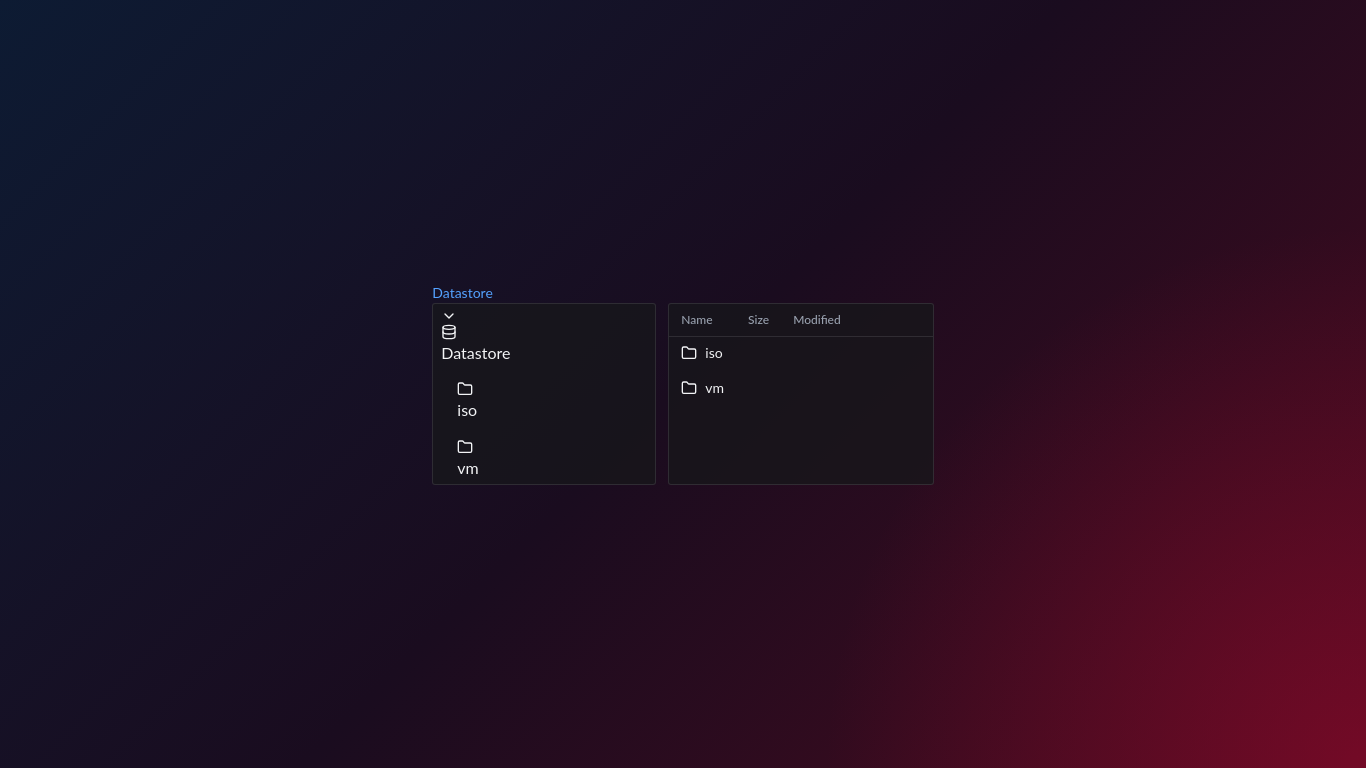
Test: DatastoreBrowser › navigates folders and breadcrumb
Press Enter in the text "iso", box [669,336,933,372]
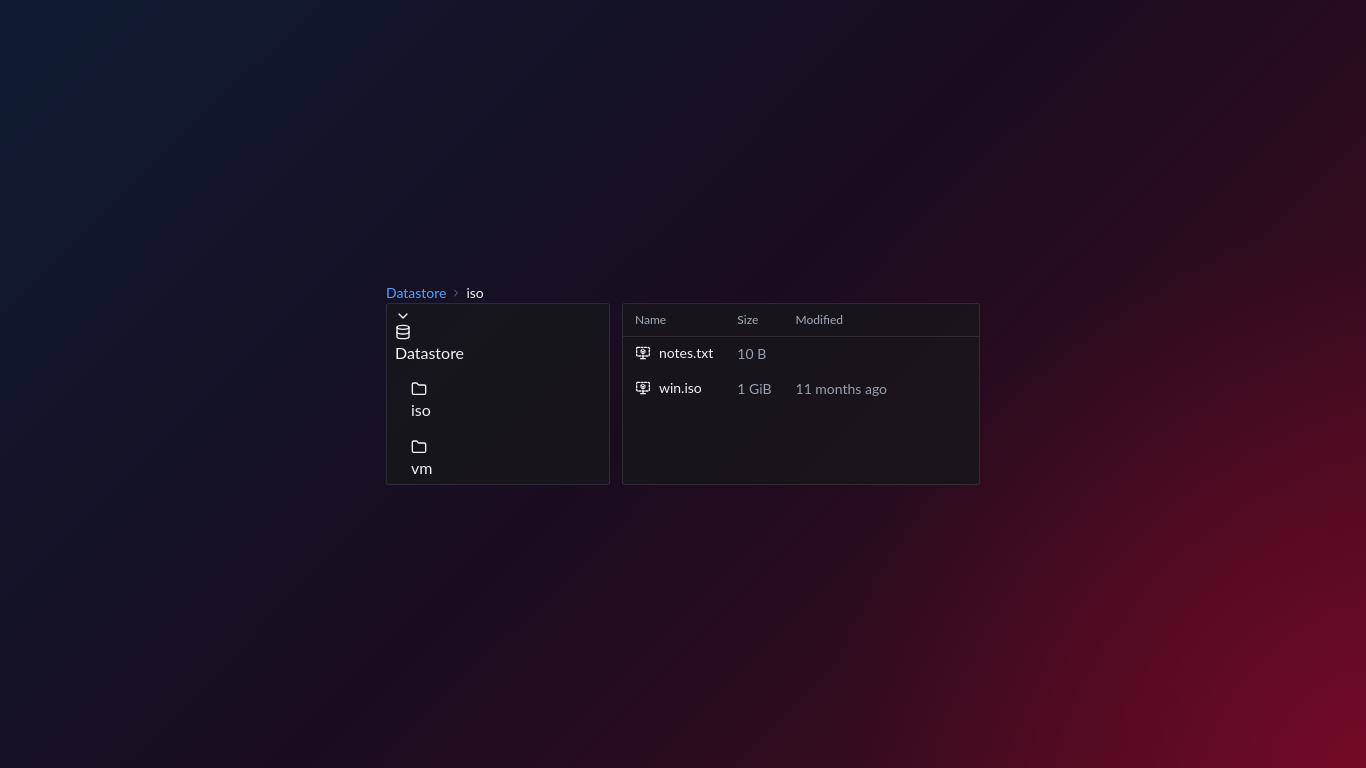
Now the text "win.iso" is shown, box [635,378,702,398]
Click the button "Datastore" at (416, 293), box [386,283,446,303]
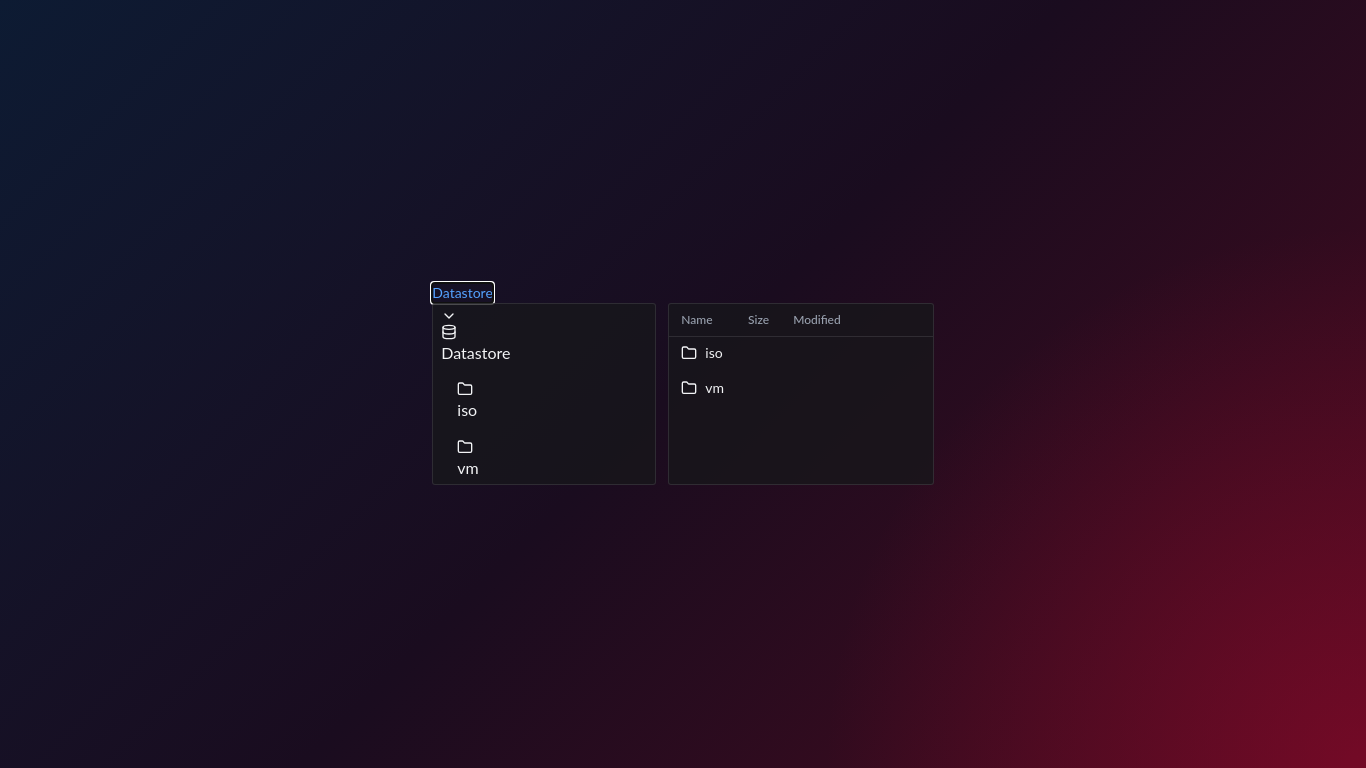
Now the text "win.iso" is gone
